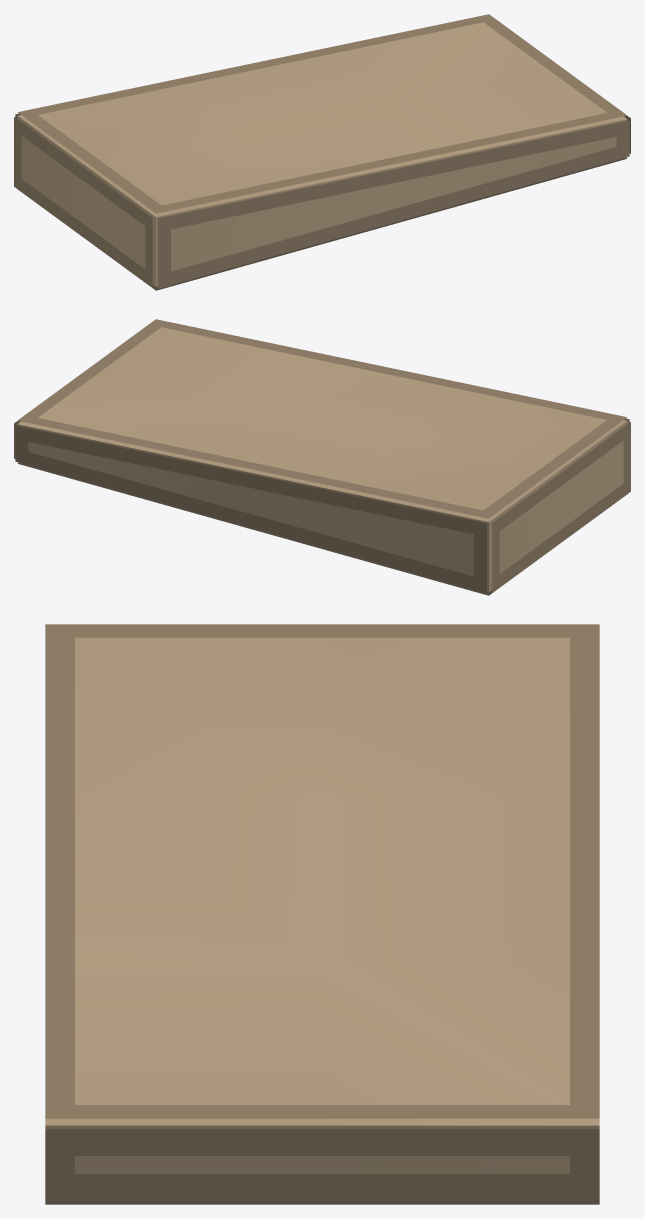
The model's file is wedge-r.glb.
3 renders of one model, top to bottom at view 1: azimuth 30°, elevation 25°; view 2: azimuth 150°, elevation 25°; view 3: azimuth 270°, elevation 25°, orthographic. The views are drawn at different scales.
Parts seen in each view (by area): view 1: wedge-r; view 2: wedge-r; view 3: wedge-r.
Boxes of the visible parts, left/top/right/bottom form: wedge-r: left=14, top=14, right=630, bottom=290; wedge-r: left=14, top=319, right=630, bottom=595; wedge-r: left=45, top=624, right=599, bottom=1204.
Size of the model in its own units: 0.0558 by 0.0086 by 0.0288.
